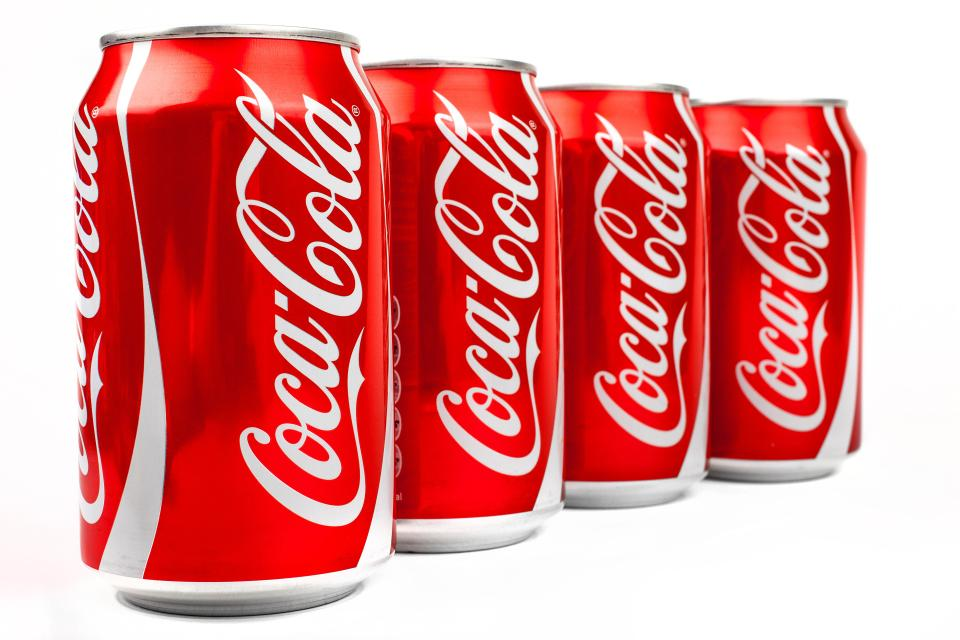can: (63, 11, 404, 626), (365, 41, 569, 566), (549, 73, 722, 522), (689, 82, 872, 494)
